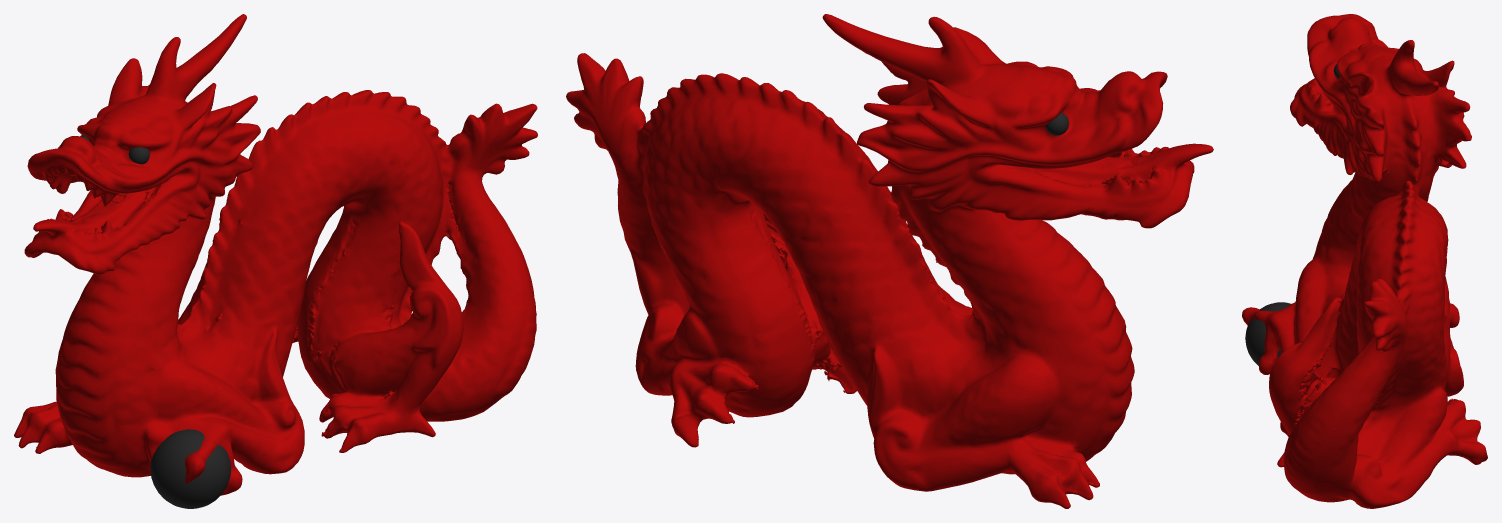
Rendered from chinesedragon.dae.
3 renders of one model, left to right at view 1: azimuth 30°, elevation 25°; view 2: azimuth 150°, elevation 25°; view 3: azimuth 270°, elevation 25°, orthographic. The views are drawn at different scales.
Visible parts, largest first — view 1: objdefault, Sphere03; view 2: objdefault; view 3: objdefault, Sphere03.
Boxes of the visible parts, left/top/right/bottom form: objdefault: left=14, top=14, right=537, bottom=495; Sphere03: left=150, top=429, right=231, bottom=508; objdefault: left=566, top=14, right=1213, bottom=508; objdefault: left=1242, top=14, right=1487, bottom=508; Sphere03: left=1245, top=302, right=1291, bottom=365.
Size of the model in its own units: 14.09 by 10.06 by 6.3.
